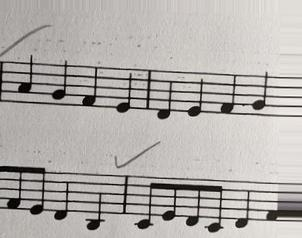A: (13, 51, 36, 106)
D: (231, 178, 254, 230), (154, 70, 175, 123), (51, 170, 71, 221)
E: (183, 69, 206, 122), (113, 65, 134, 118)
F: (78, 63, 101, 112), (218, 70, 238, 117)
G: (48, 58, 71, 109), (249, 67, 270, 120)
